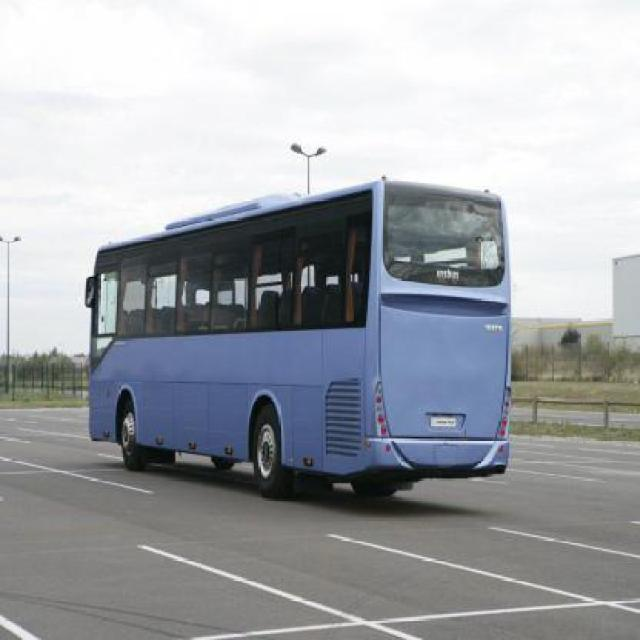bus: (89, 178, 513, 500)
